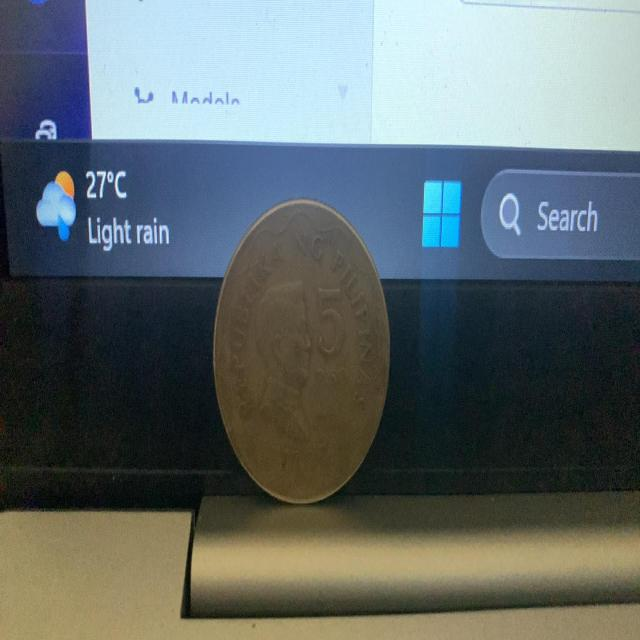5 peso-old: (203, 191, 396, 516)
